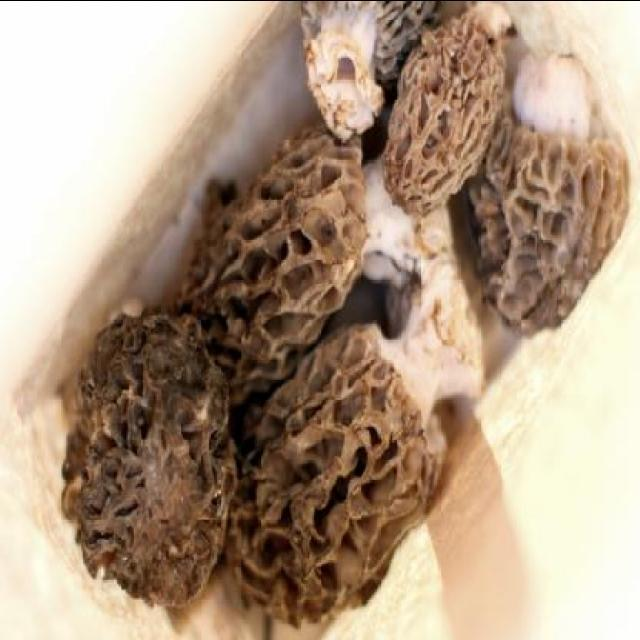Mushroom: (63, 1, 634, 632), (382, 3, 540, 245)
